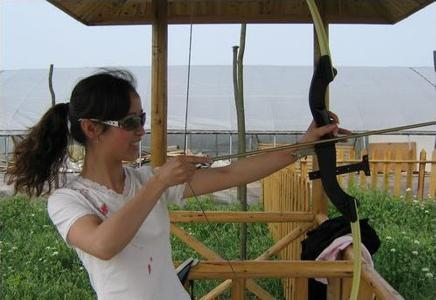person: (10, 73, 349, 300)
